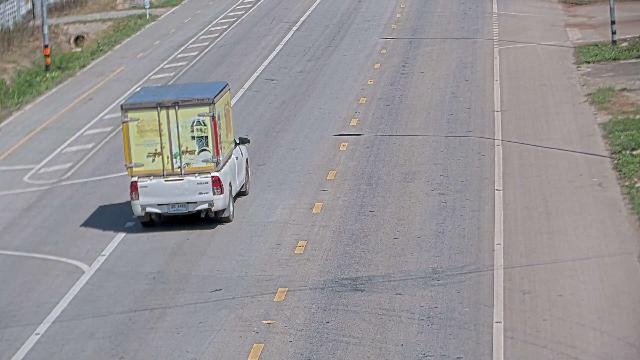pickup-truck: (119, 80, 251, 226)
